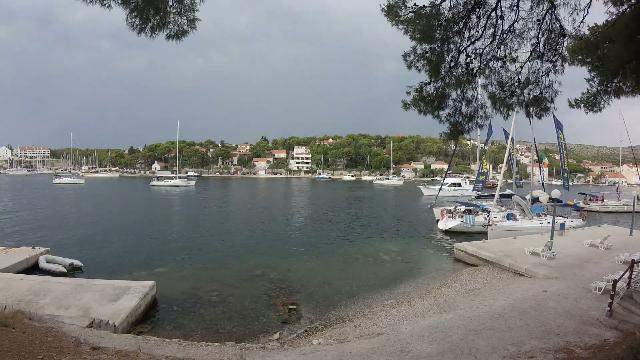Sailboat: (143, 172, 203, 192), (49, 170, 90, 186), (369, 174, 408, 188)
